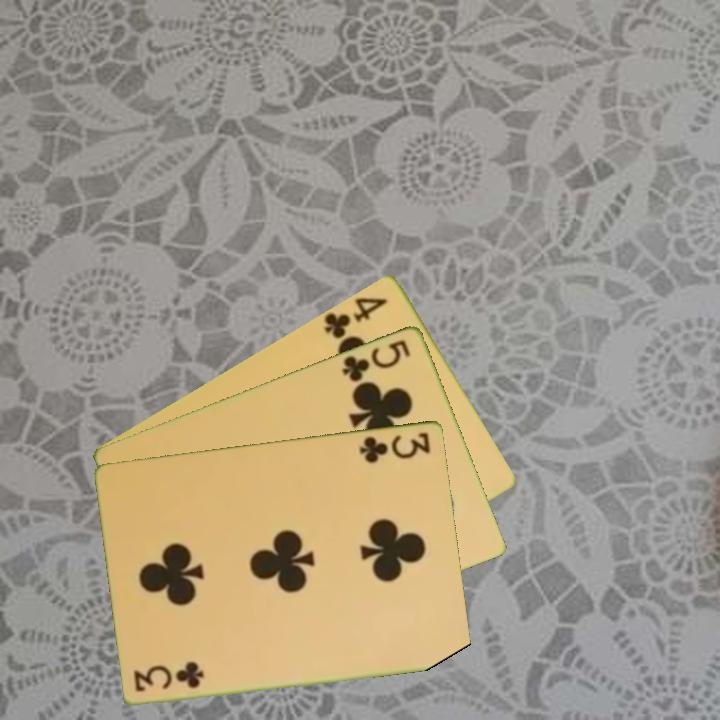3c: (356, 428, 434, 465), (131, 661, 208, 694)
4c: (320, 293, 391, 342)
5c: (338, 336, 414, 385)
